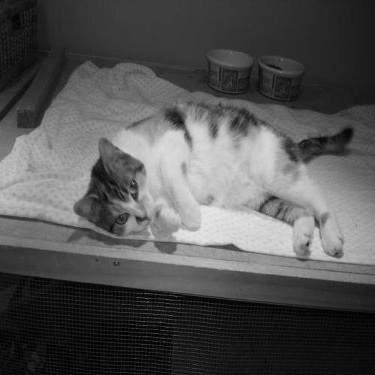cat: (50, 71, 358, 265)
